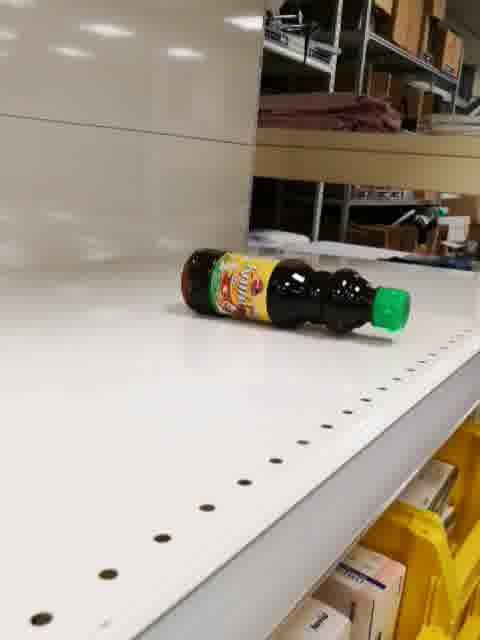cookingoil: (175, 245, 414, 338)
